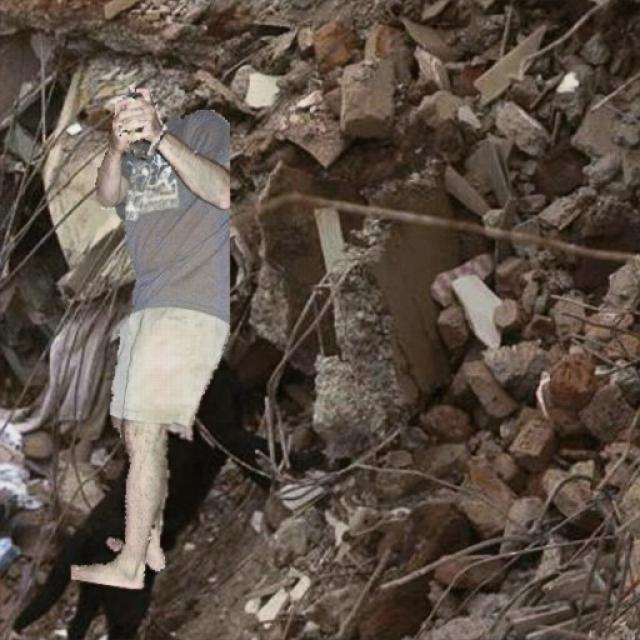Person in Rubble: (71, 88, 229, 588)
